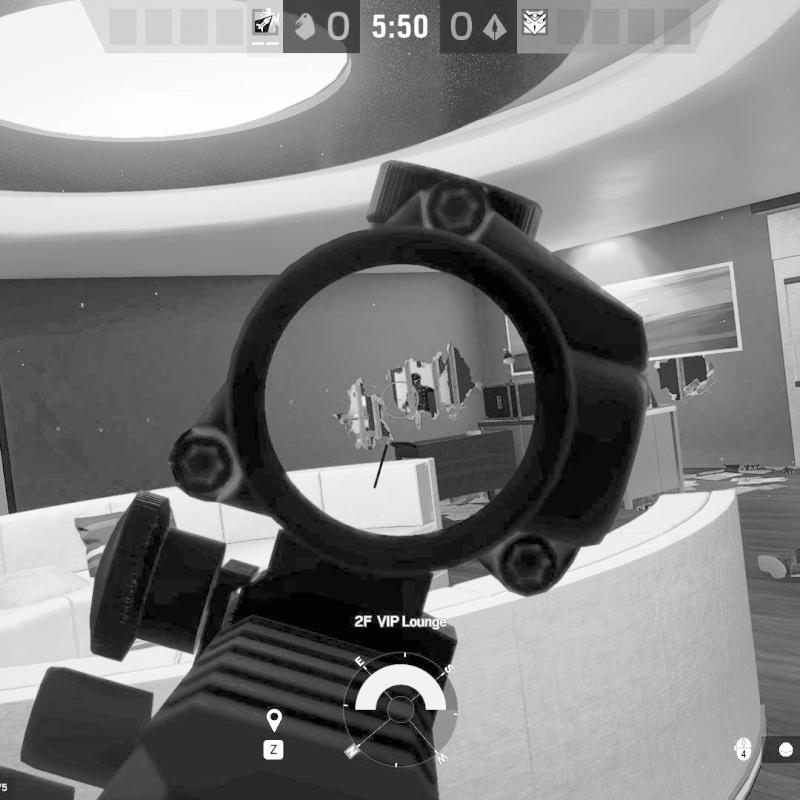Character: (401, 371, 443, 412)
Head: (409, 375, 424, 390)
